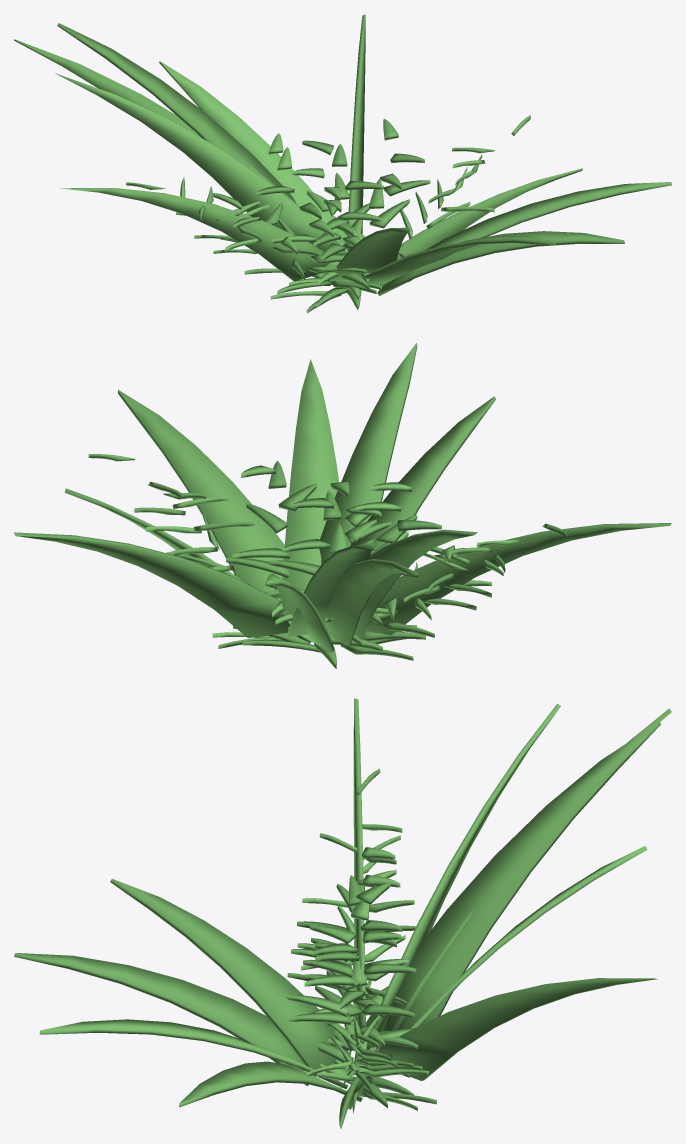
File: fern_1.glb
3 views of the same model, one above another, from view 1: azimuth 30°, elevation 25°; view 2: azimuth 150°, elevation 25°; view 3: azimuth 270°, elevation 25° (orthographic). The views are drawn at different scales.
Visible parts, largest first — view 1: fern; view 2: fern; view 3: fern.
Boxes of the visible parts, x1,y1,x2,y2 form: fern: [14, 14, 671, 313]; fern: [14, 343, 671, 668]; fern: [14, 698, 671, 1129].
Bounding box in the file's own units: 0.976 × 0.376 × 0.8524.
